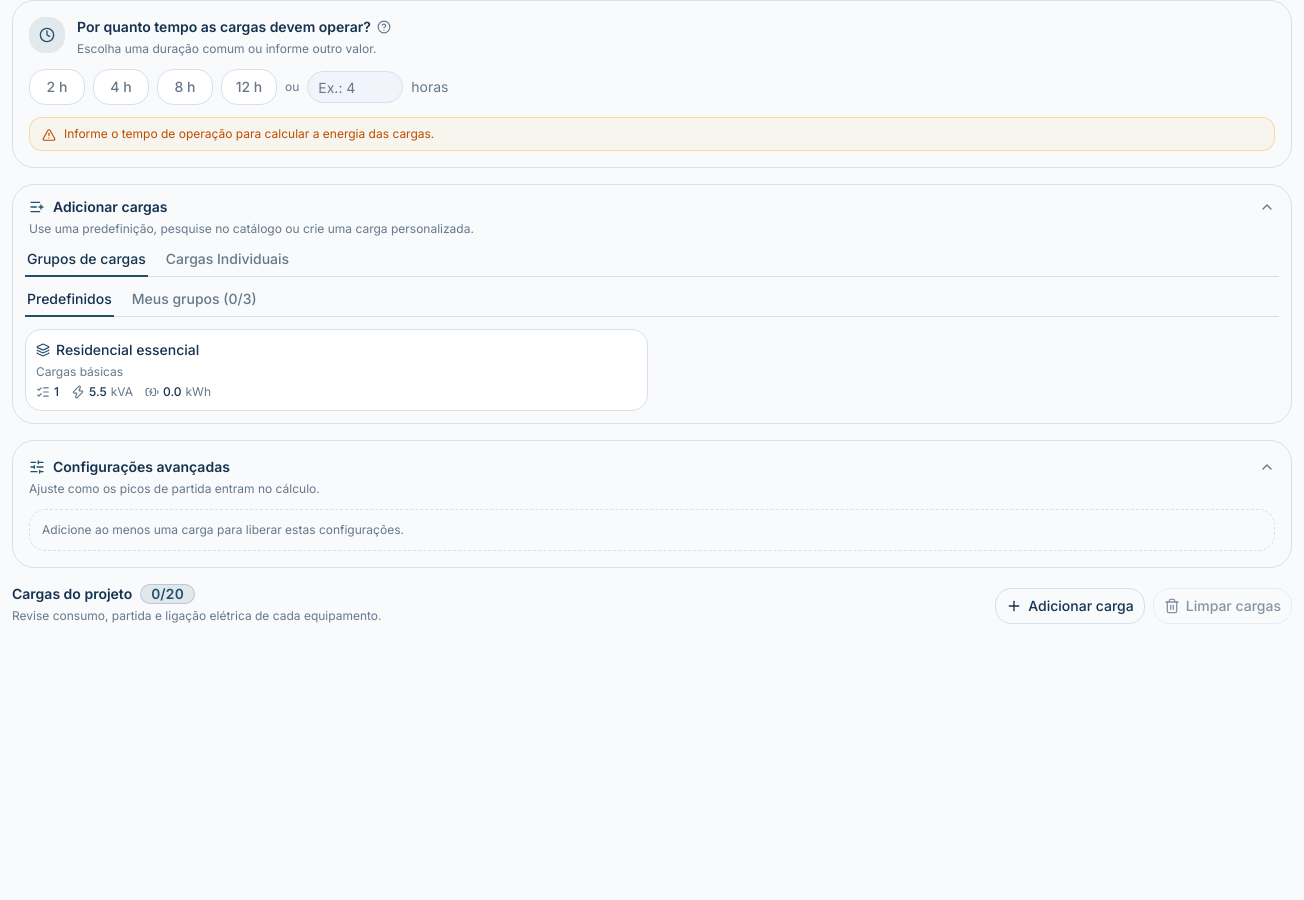
Test: LoadSelector: collapsible sections › shows the switcher after expanding the section
Step 1. Click the button with aria-label "Recolher cargas" → (110, 206), box [25,197,1279,241]
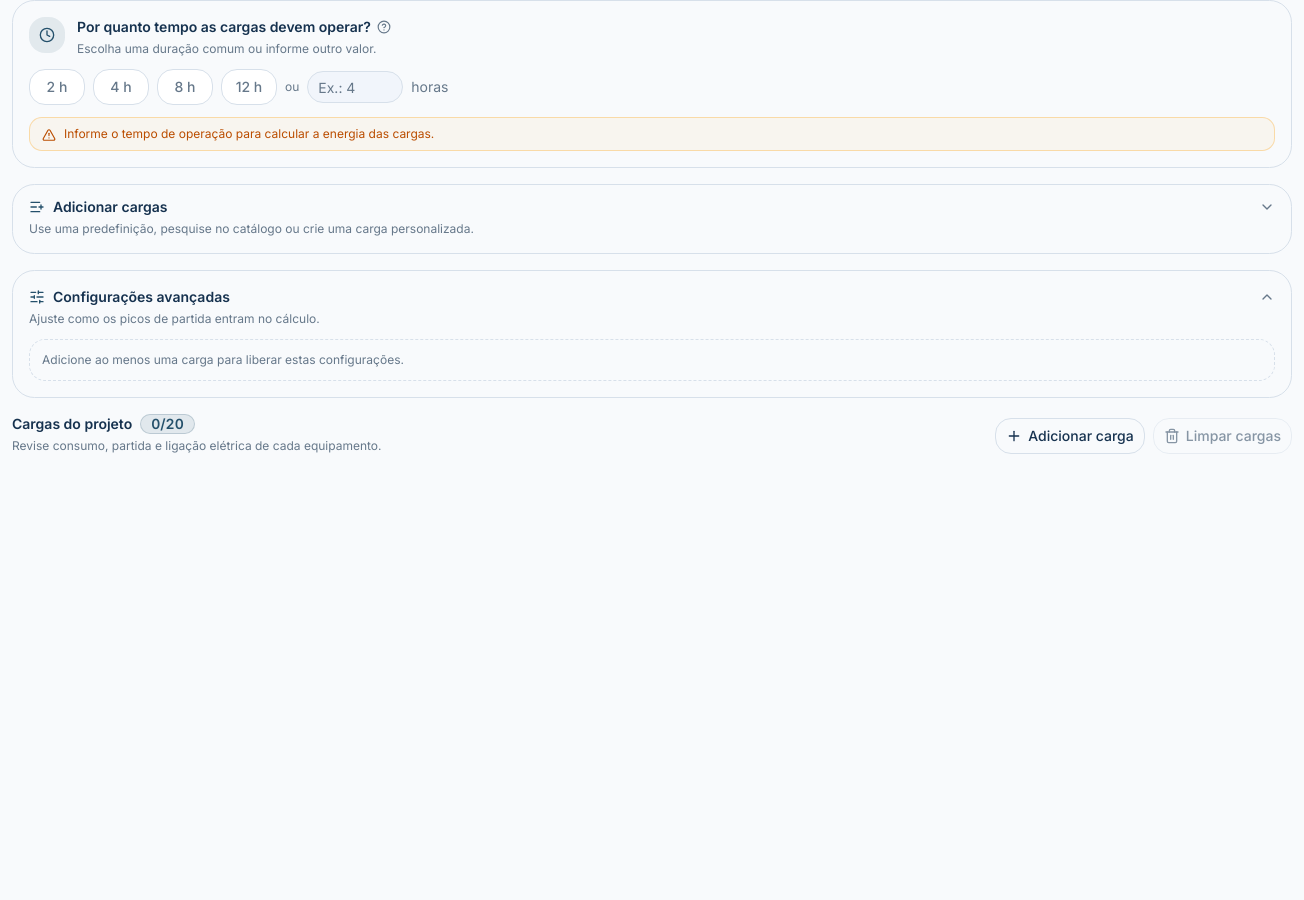
Expected: the tab "Cargas Individuais" is gone
Step 2. Click the button with aria-label "Expandir cargas" → (110, 206), box [25,197,1279,241]
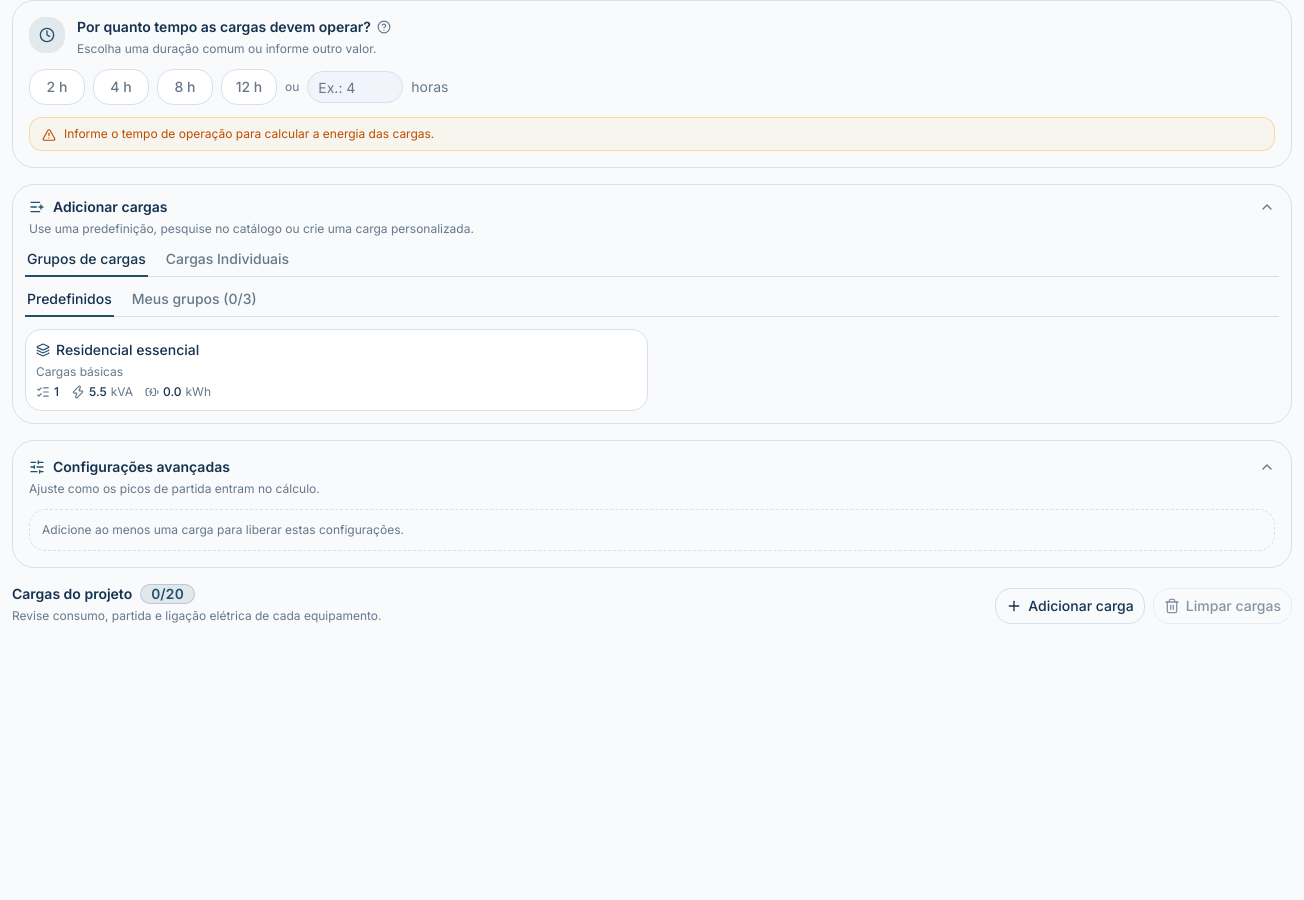
Step 3. Click the tab "Cargas Individuais" → (228, 263), box [164,249,291,277]
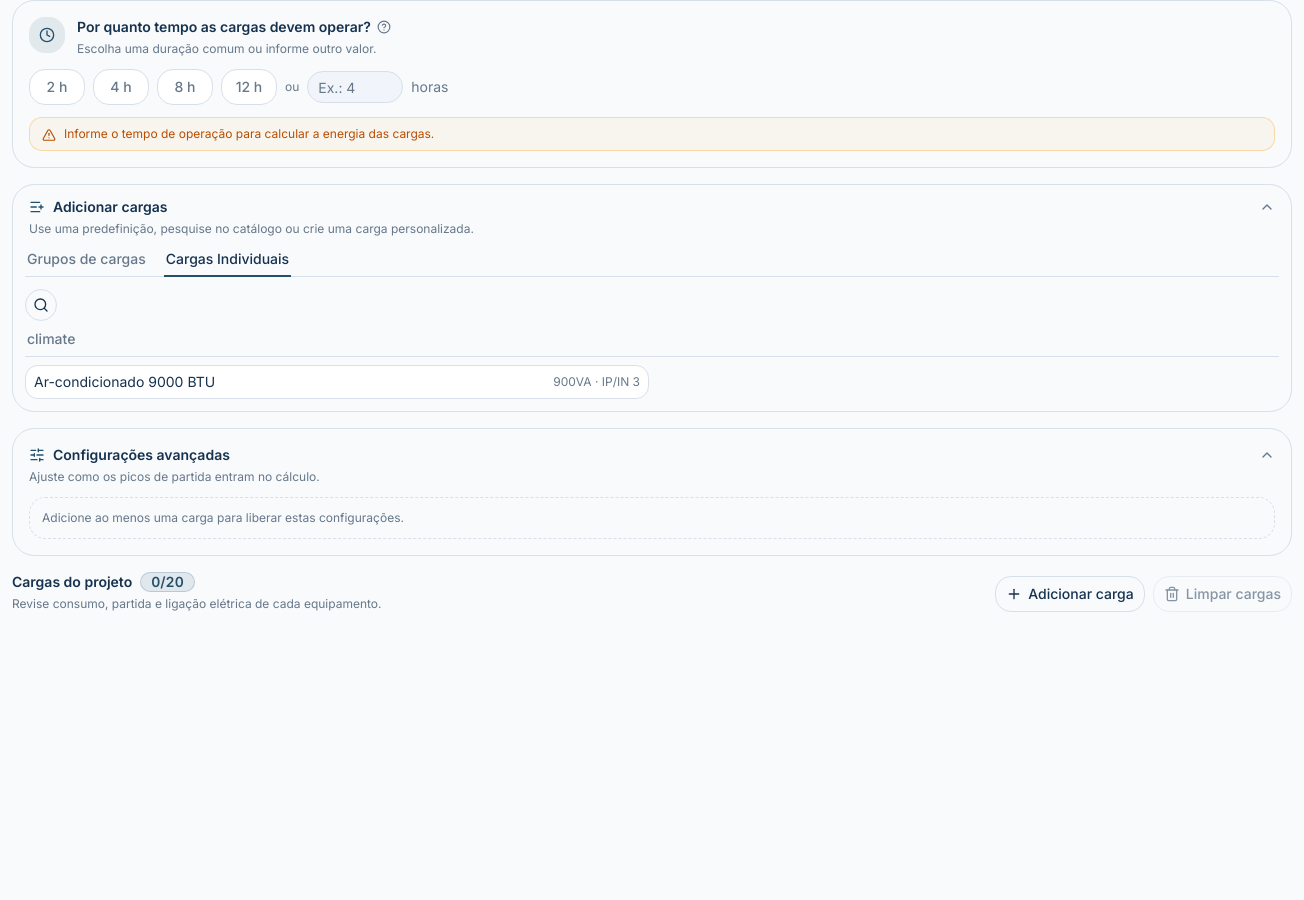
Expected: the button named "Buscar equipamento..." is shown, [25,289,57,321]
